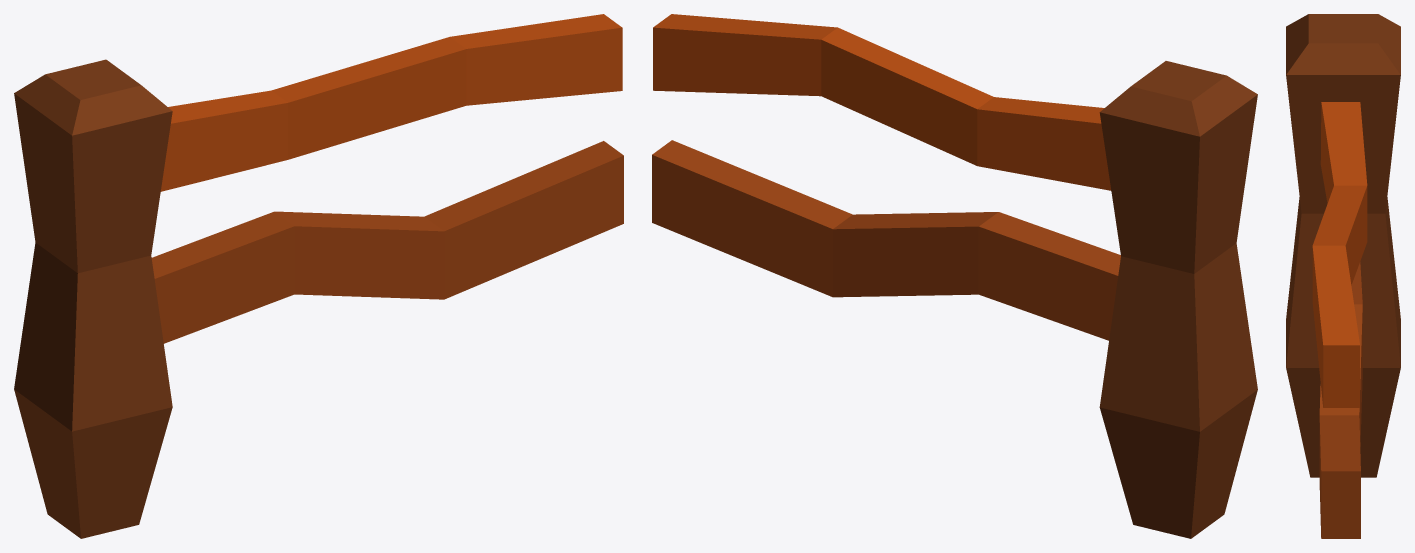
Rendered from Fence.fbx.
The picture shows the model from 3 angles, left to right: view 1: azimuth 30°, elevation 25°; view 2: azimuth 150°, elevation 25°; view 3: azimuth 270°, elevation 25°; orthographic projection.
Parts seen in each view (by area): view 1: Cube; view 2: Cube; view 3: Cube.
Boxes of the visible parts, x1,y1,x2,y2 form: Cube: (14, 14, 623, 538); Cube: (652, 14, 1257, 538); Cube: (1286, 14, 1400, 538).
Bounding box in the file's own units: 146 × 107 × 25.71.
